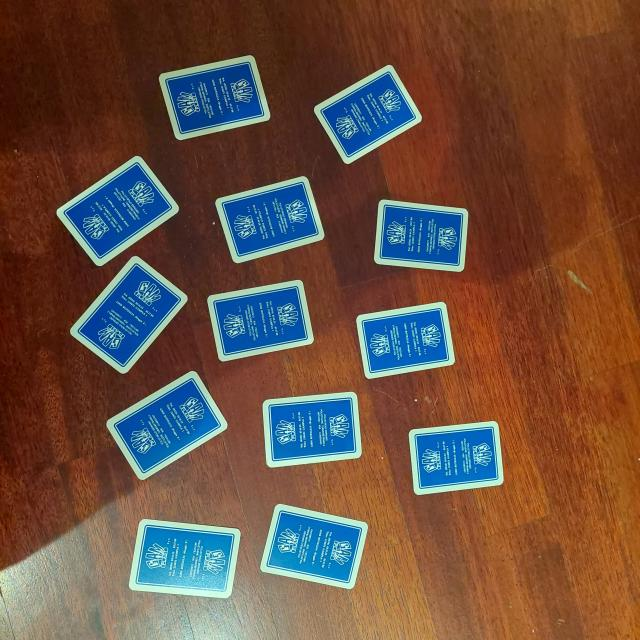card: (70, 255, 186, 377), (56, 156, 181, 265), (109, 371, 229, 479), (313, 64, 423, 165), (214, 175, 327, 265), (159, 54, 274, 140), (260, 502, 368, 591), (128, 519, 240, 603), (206, 279, 317, 363), (261, 390, 364, 470), (356, 301, 457, 381), (374, 196, 471, 274), (408, 420, 506, 495)
